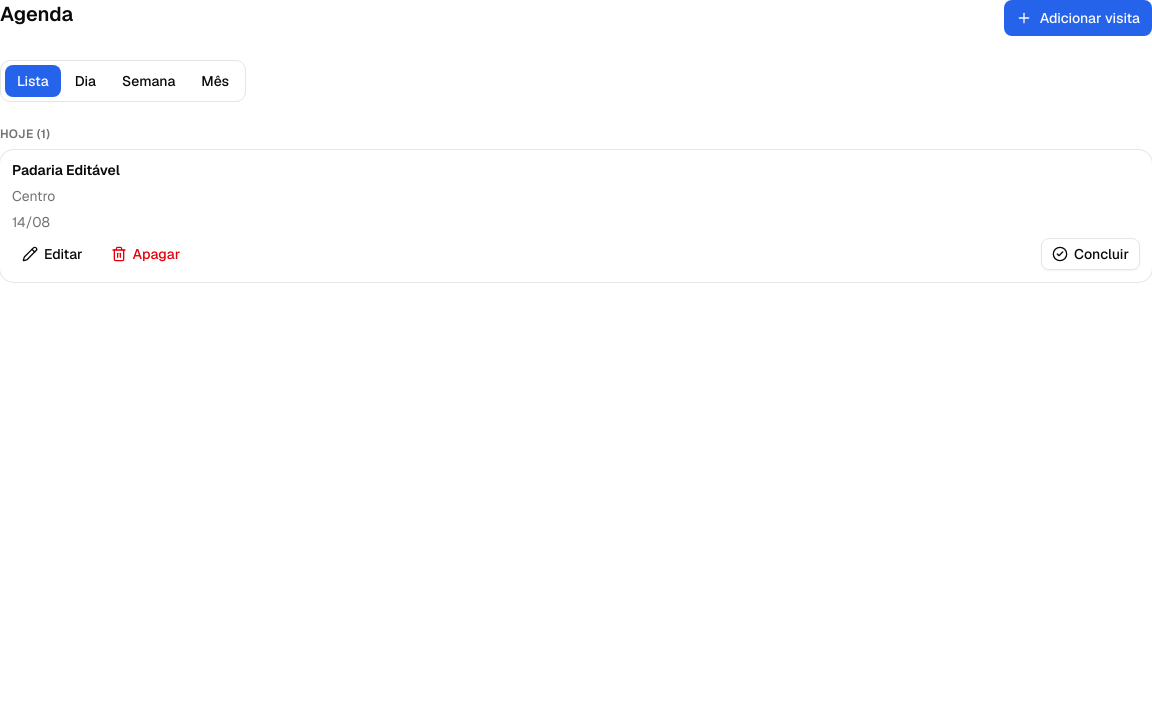
Scenario: Agenda2List + Agenda2Calendario (integração, plano 32-07) › editar-no-calendario-abre-formulario: Editar no diálogo do dia abre Editar item com o nome preenchido
expect the heading "Hoje (1)" is shown: met, box [0,126,50,142]
Click the button "Mês". click: (215, 81)
box: [189,65,241,97]
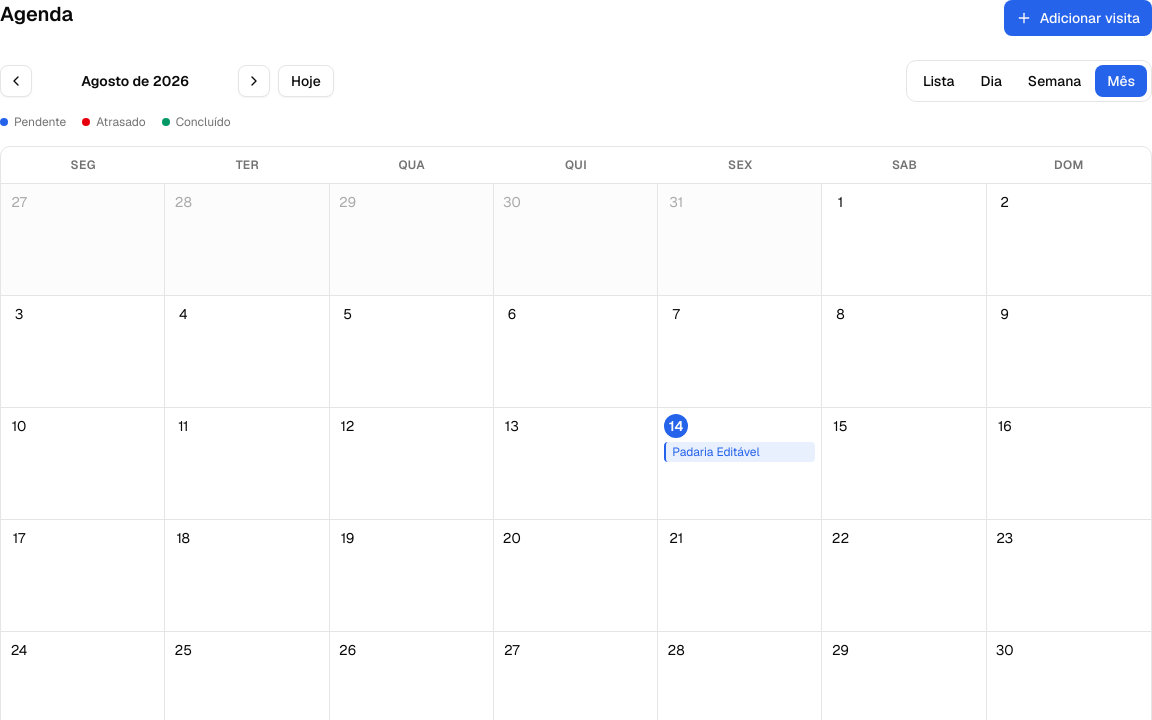
Click the button with aria-label "14 de agosto". click: (740, 464)
box: [658,408,822,520]
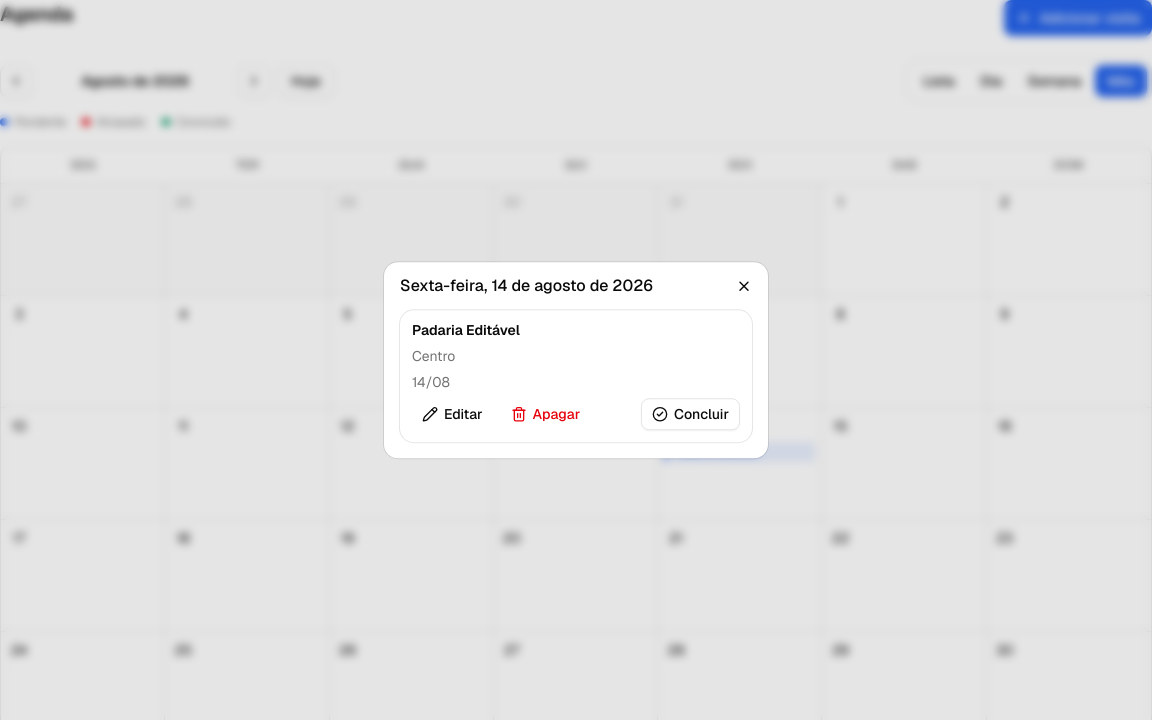
Click the button "Editar". click: (452, 414)
box: [412,398,493,430]
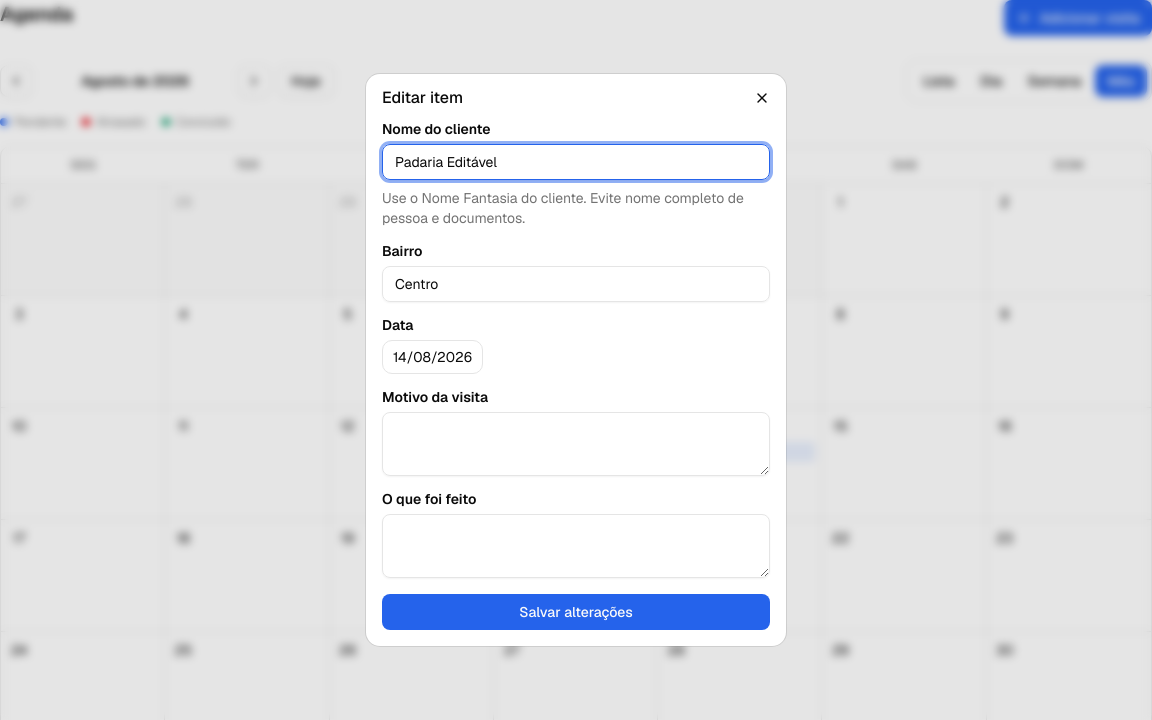
expect the heading "Editar item" is shown: met, box [382,87,463,108]
expect the field labelled "Nome do cliente" holds "Padaria Editável": met, box [382,144,770,180]
